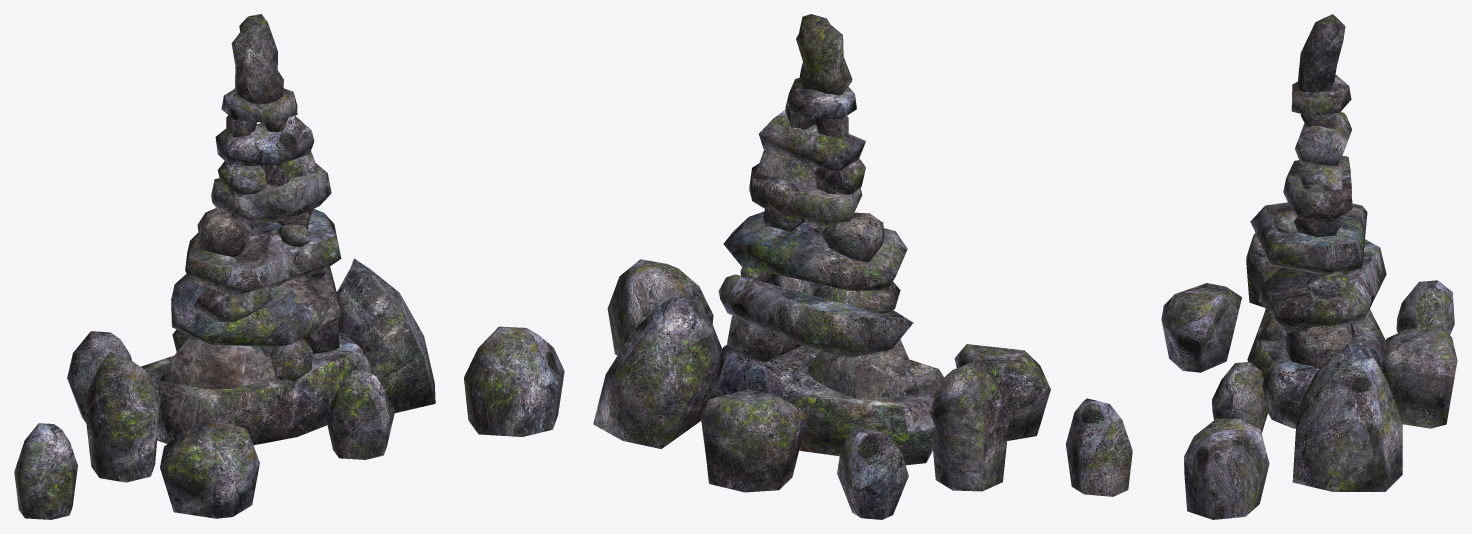
The model's file is cairn_02_00.glb.
The picture shows the model from 3 angles, left to right: view 1: azimuth 30°, elevation 25°; view 2: azimuth 150°, elevation 25°; view 3: azimuth 270°, elevation 25°; orthographic projection. The views are drawn at different scales.
Parts seen in each view (by area): view 1: cairn_02_00; view 2: cairn_02_00; view 3: cairn_02_00.
Part boxes in pixels (x1,y1,x2,y2): cairn_02_00: (14, 14, 564, 519); cairn_02_00: (593, 14, 1132, 519); cairn_02_00: (1161, 14, 1457, 519).
Size of the model in its own units: 40.12 by 31.06 by 21.02.
1 material, 1 textured.
